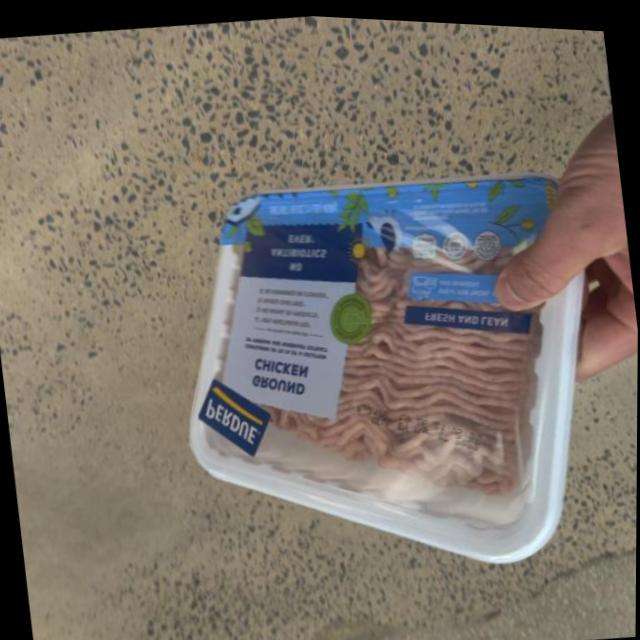Meat: (171, 144, 618, 598)
